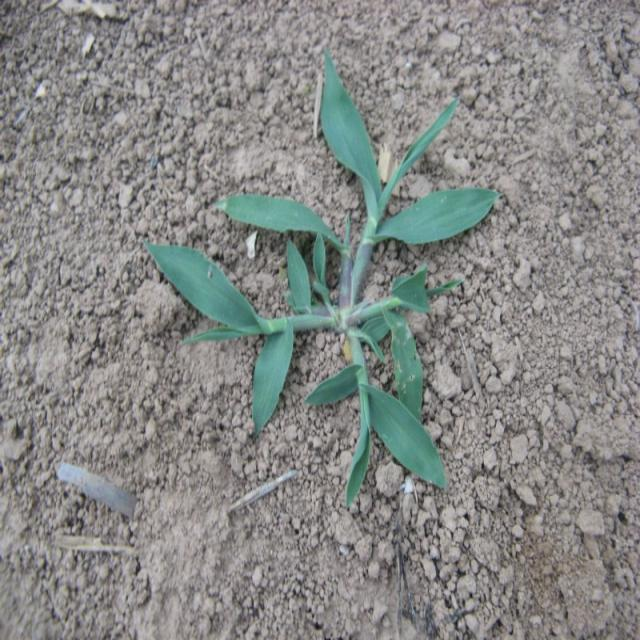bg: (146, 52, 495, 511)
